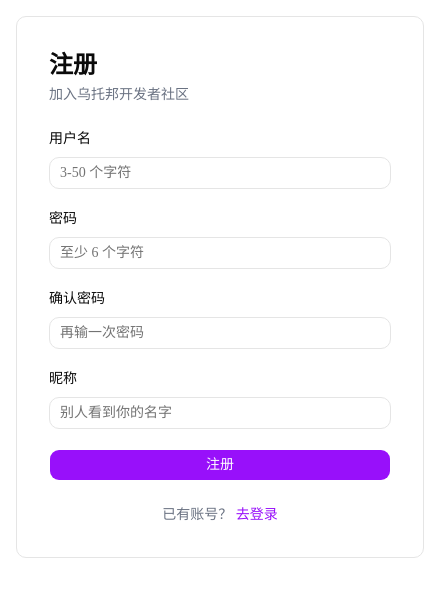
注册页面 › 用户名太短时，提示错误且不调 register
The image size is (441, 615).
What coordinates should you click on to do the following:
click the button "注册"
I would click on:
 (220, 465)
Its box is x1=49 y1=449 x2=391 y2=481.
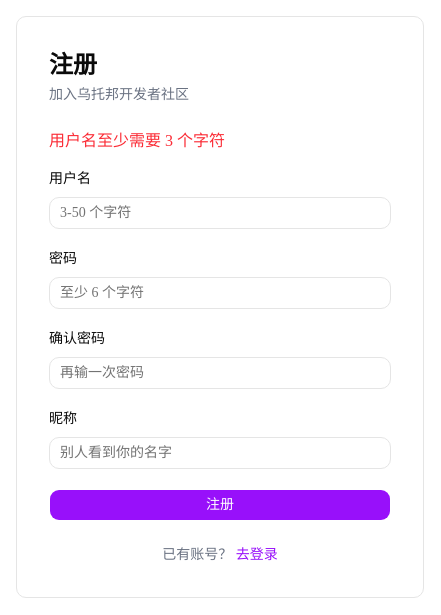
Now the text "用户名至少需要 3 个字符" is shown, box x1=49 y1=132 x2=225 y2=149
